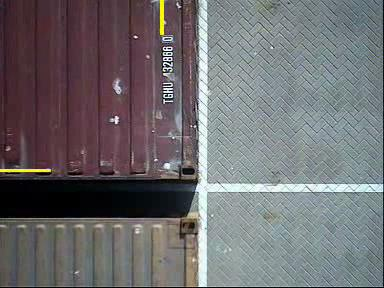groundmarker_2: (197, 161, 245, 220)
